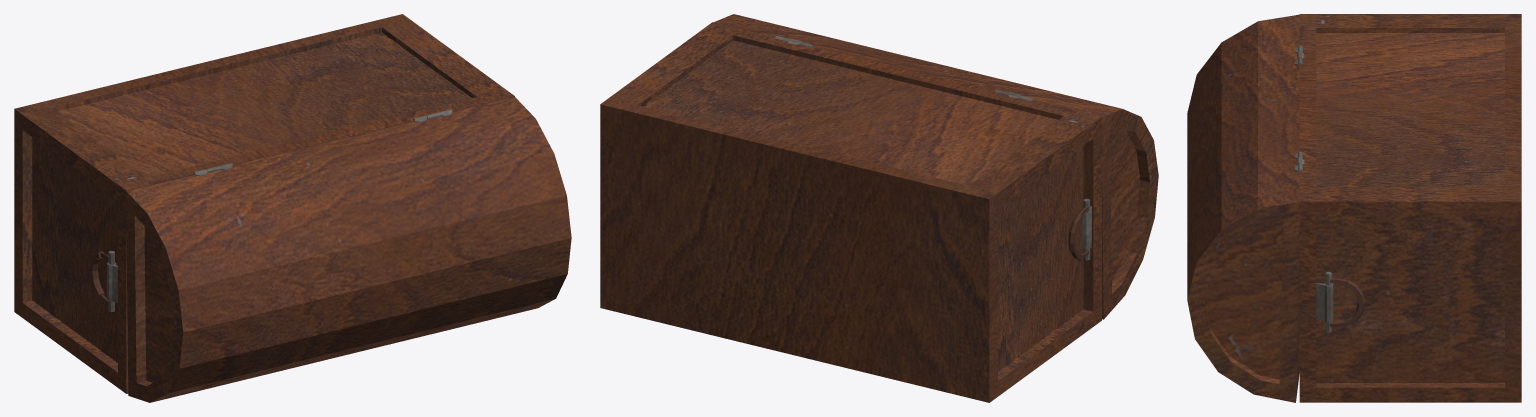
The model's file is chest_unwrapped_diffuse(animated-).fbx.
3 views of the same model, side by side, from view 1: azimuth 30°, elevation 25°; view 2: azimuth 150°, elevation 25°; view 3: azimuth 270°, elevation 25° (orthographic).
Visible parts, largest first — view 1: Chest_Top, Chest_Bottom; view 2: Chest_Bottom, Chest_Top; view 3: Chest_Bottom, Chest_Top.
Boxes of the visible parts, x1,y1,x2,y2 form: Chest_Top: (126, 96, 571, 402); Chest_Bottom: (14, 14, 514, 393); Chest_Bottom: (600, 22, 1101, 402); Chest_Top: (714, 14, 1158, 319); Chest_Bottom: (1297, 14, 1521, 402); Chest_Top: (1187, 14, 1302, 402).
Bounding box in the file's own units: 4.08 × 2.07 × 3.01.
